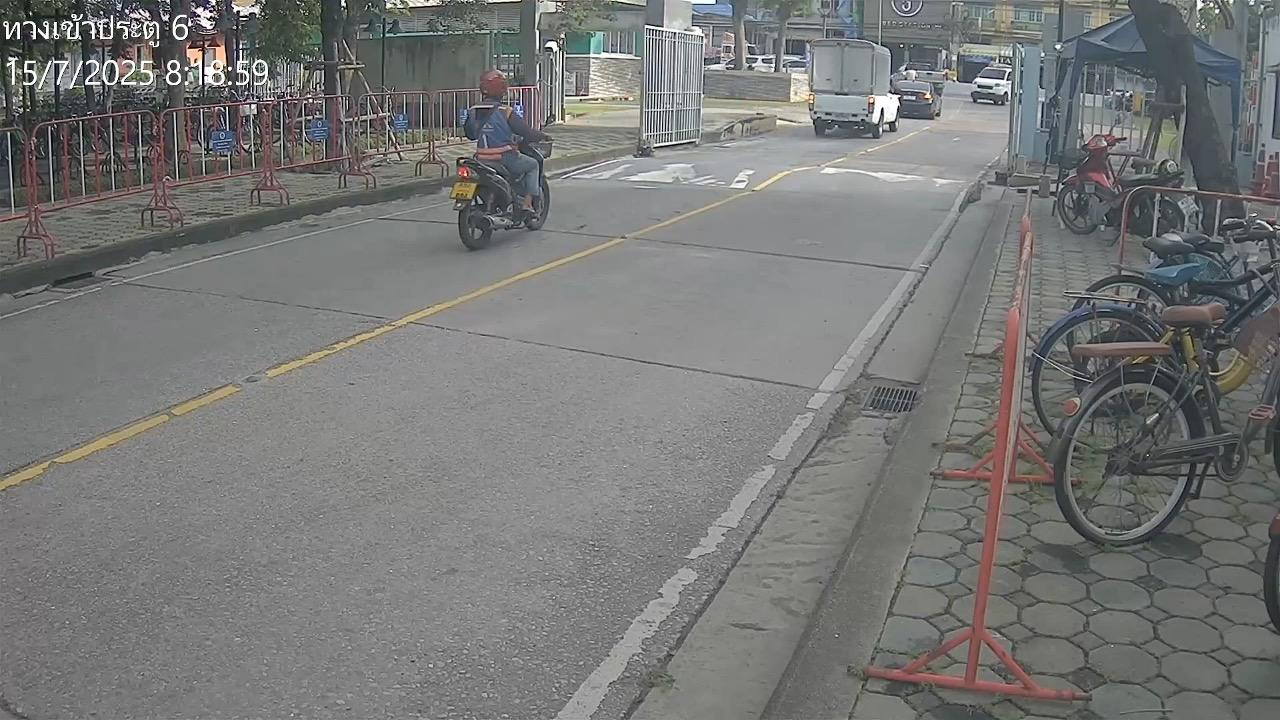With-Helmet: (479, 67, 507, 98)
